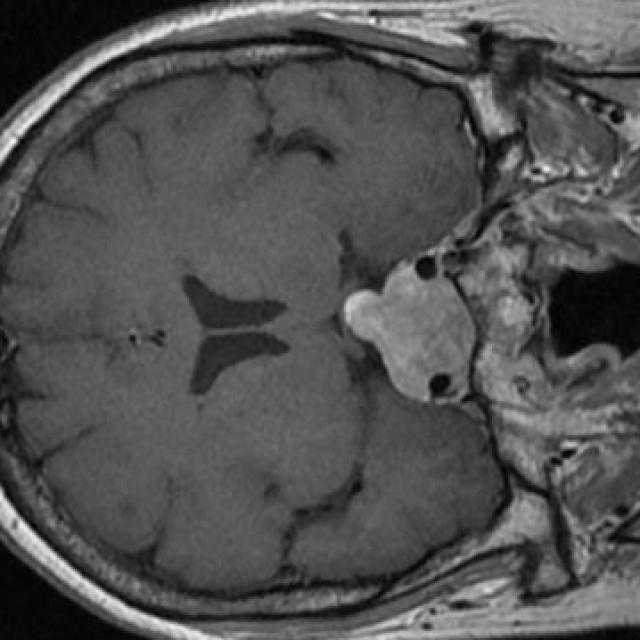pituitary: (344, 260, 476, 405)
